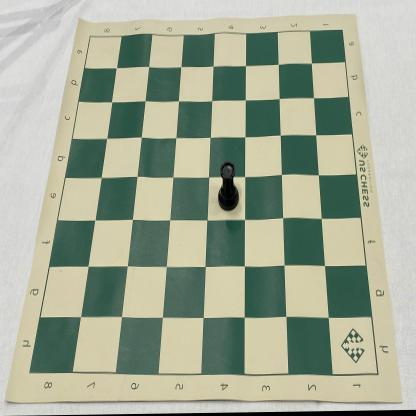black-rook: (218, 161, 240, 213)
